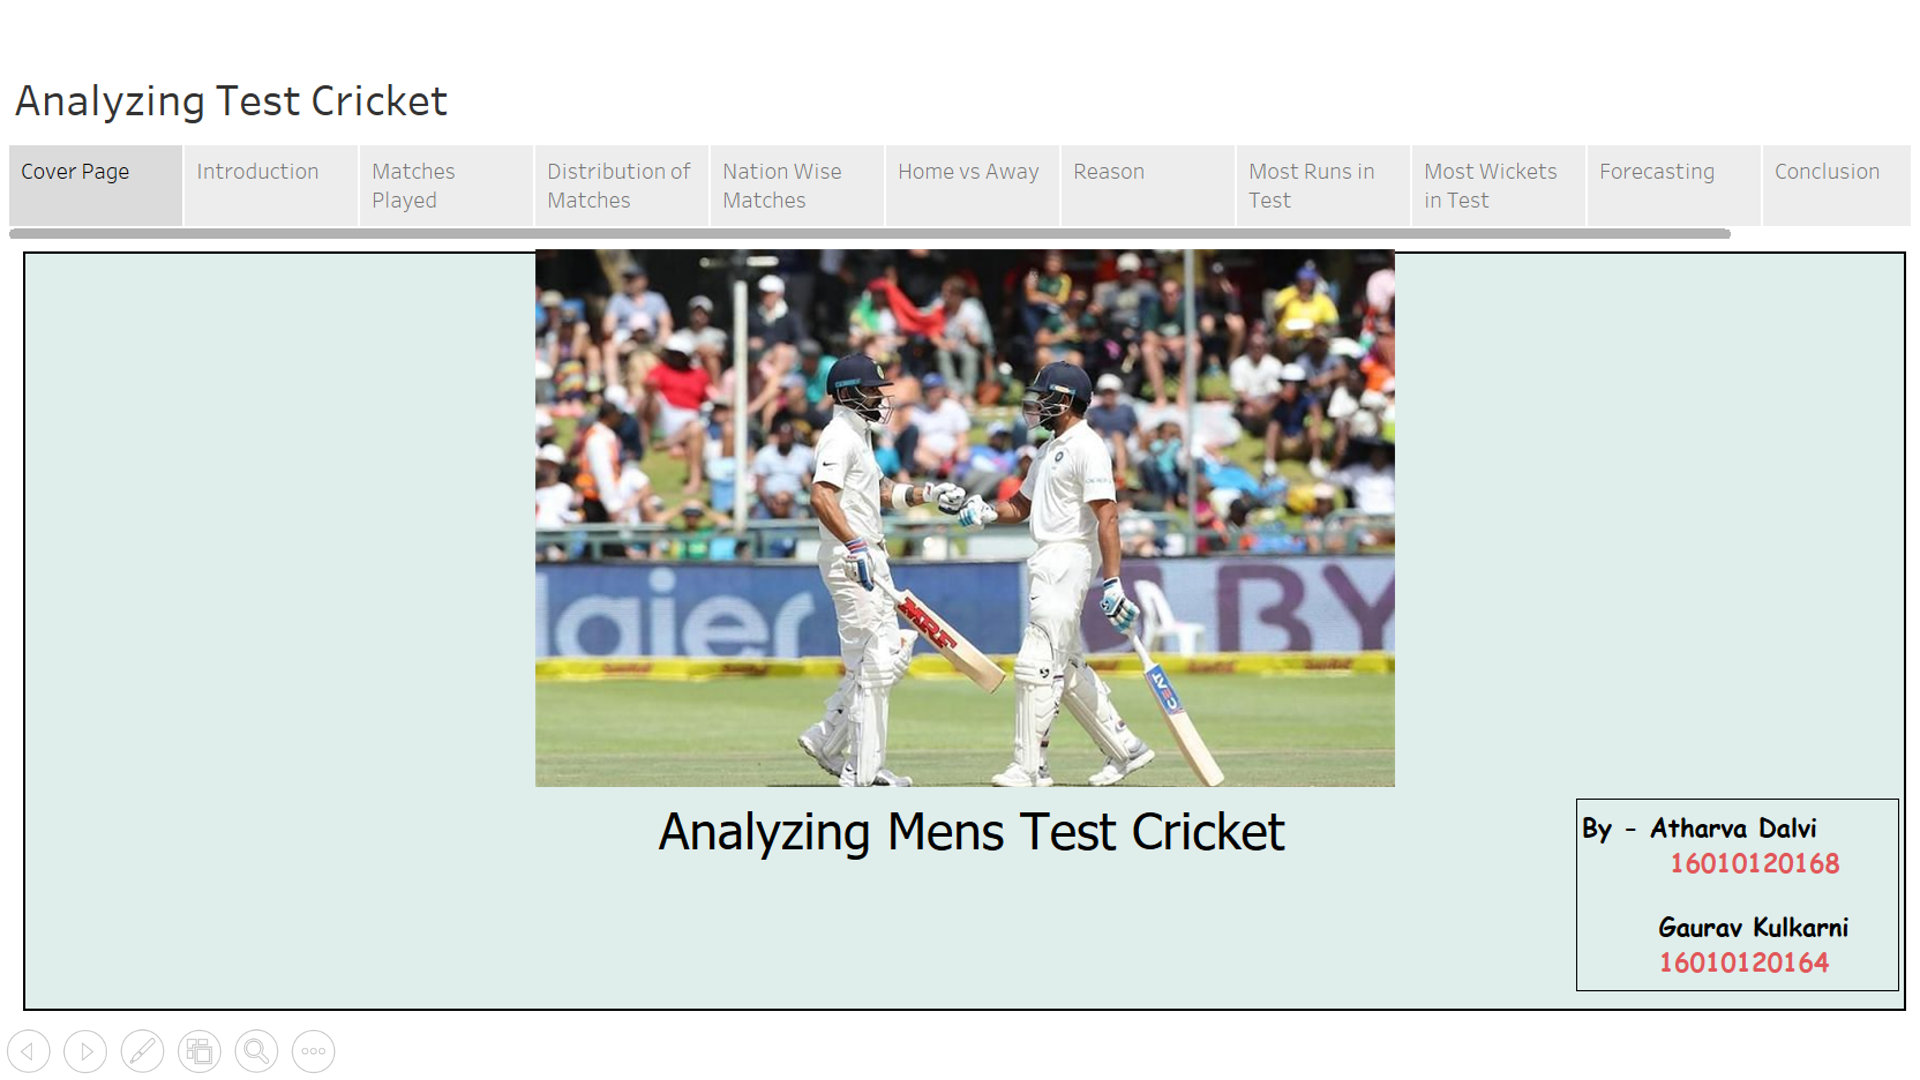

What the dashboard file says about the page in this screenshot:
{"tool":"tableau","page":{"name":"intro","canvas":[1000,1000],"units":"permille","ordinal":10},"visuals":[{"type":"text","box":[0.6,6,997.6,990.4]},{"type":"image","param":"C:/Users/athar/Downloads/Test mace.jpg","box":[268.6,18.1,731.4,963.9]},{"type":"text","box":[22.8,79.5,231.4,78.3]},{"type":"text","box":[21.6,197.6,231.4,453]},{"type":"text","box":[21.6,748.2,155.1,142.2]},{"type":"image","param":"C:/Users/athar/Downloads/Google_Sheets_logo_(2014-2020).svg.png","box":[179.1,748.2,70.9,144.6]},{"type":"text","box":[42.7,804.8,60.1,36.1]}]}

Visuals, with their boxes on the dashboard's canvas, which has no fixed pixel size, in thousandths of its width and height (x1, y1, x2, y2). These are canvas units, not pixel positions in the 1920x1080 screenshot, which may show the page scaled, cropped or inside an application window:
text: x1=1, y1=6, x2=998, y2=996
image: x1=269, y1=18, x2=1000, y2=982
text: x1=23, y1=80, x2=254, y2=158
text: x1=22, y1=198, x2=253, y2=651
text: x1=22, y1=748, x2=177, y2=890
image: x1=179, y1=748, x2=250, y2=893
text: x1=43, y1=805, x2=103, y2=841
